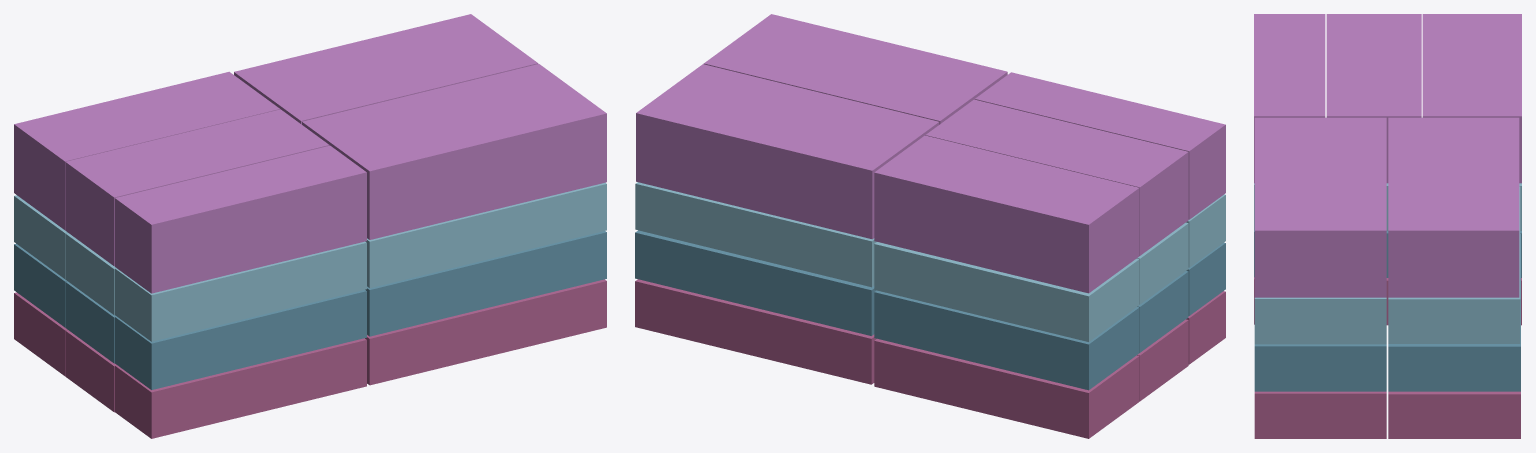
The model's file is HITBOX01.glb.
The picture shows the model from 3 angles, left to right: view 1: azimuth 30°, elevation 25°; view 2: azimuth 150°, elevation 25°; view 3: azimuth 270°, elevation 25°; orthographic projection. The views are drawn at different scales.
Parts seen in each view (by area): view 1: Box005, Box003, Box004, Box001, Box002, Box018, Box013, Box008, Box020, Box015, Box010, Box006 (+5 smaller); view 2: Box004, Box001, Box005, Box002, Box006, Box016, Box011, Box014, Box019, Box009, Box003, Box007 (+5 smaller); view 3: Box005, Box004, Box001, Box002, Box003, Box014, Box009, Box015, Box019, Box020, Box010.
Boxes of the visible parts, left/top/right/bottom form: Box005: left=302, top=64, right=606, bottom=239; Box003: left=115, top=145, right=366, bottom=293; Box004: left=234, top=14, right=538, bottom=124; Box001: left=14, top=71, right=279, bottom=229; Box002: left=65, top=109, right=329, bottom=266; Box018: left=115, top=338, right=366, bottom=438; Box013: left=115, top=290, right=366, bottom=389; Box008: left=115, top=241, right=366, bottom=341; Box020: left=365, top=279, right=606, bottom=385; Box015: left=365, top=231, right=606, bottom=336; Box010: left=365, top=182, right=606, bottom=288; Box006: left=14, top=195, right=67, bottom=278; Box004: left=636, top=64, right=939, bottom=239; Box001: left=874, top=135, right=1139, bottom=293; Box005: left=703, top=14, right=1007, bottom=124; Box002: left=925, top=99, right=1188, bottom=255; Box006: left=874, top=242, right=1139, bottom=341; Box016: left=874, top=338, right=1139, bottom=438; Box011: left=874, top=290, right=1139, bottom=390; Box014: left=635, top=230, right=876, bottom=335; Box019: left=635, top=279, right=876, bottom=384; Box009: left=635, top=182, right=876, bottom=287; Box003: left=974, top=72, right=1225, bottom=219; Box007: left=1137, top=222, right=1188, bottom=304; Box005: left=1254, top=117, right=1386, bottom=297; Box004: left=1388, top=117, right=1519, bottom=297; Box001: left=1422, top=14, right=1521, bottom=183; Box002: left=1326, top=14, right=1421, bottom=183; Box003: left=1254, top=14, right=1325, bottom=183; Box014: left=1388, top=234, right=1520, bottom=391; Box009: left=1388, top=186, right=1520, bottom=343; Box015: left=1254, top=344, right=1386, bottom=391; Box019: left=1388, top=391, right=1520, bottom=438; Box020: left=1254, top=391, right=1386, bottom=438; Box010: left=1254, top=297, right=1386, bottom=344.
Bounding box in the file's own units: 32.07 × 14.44 × 16.75.
